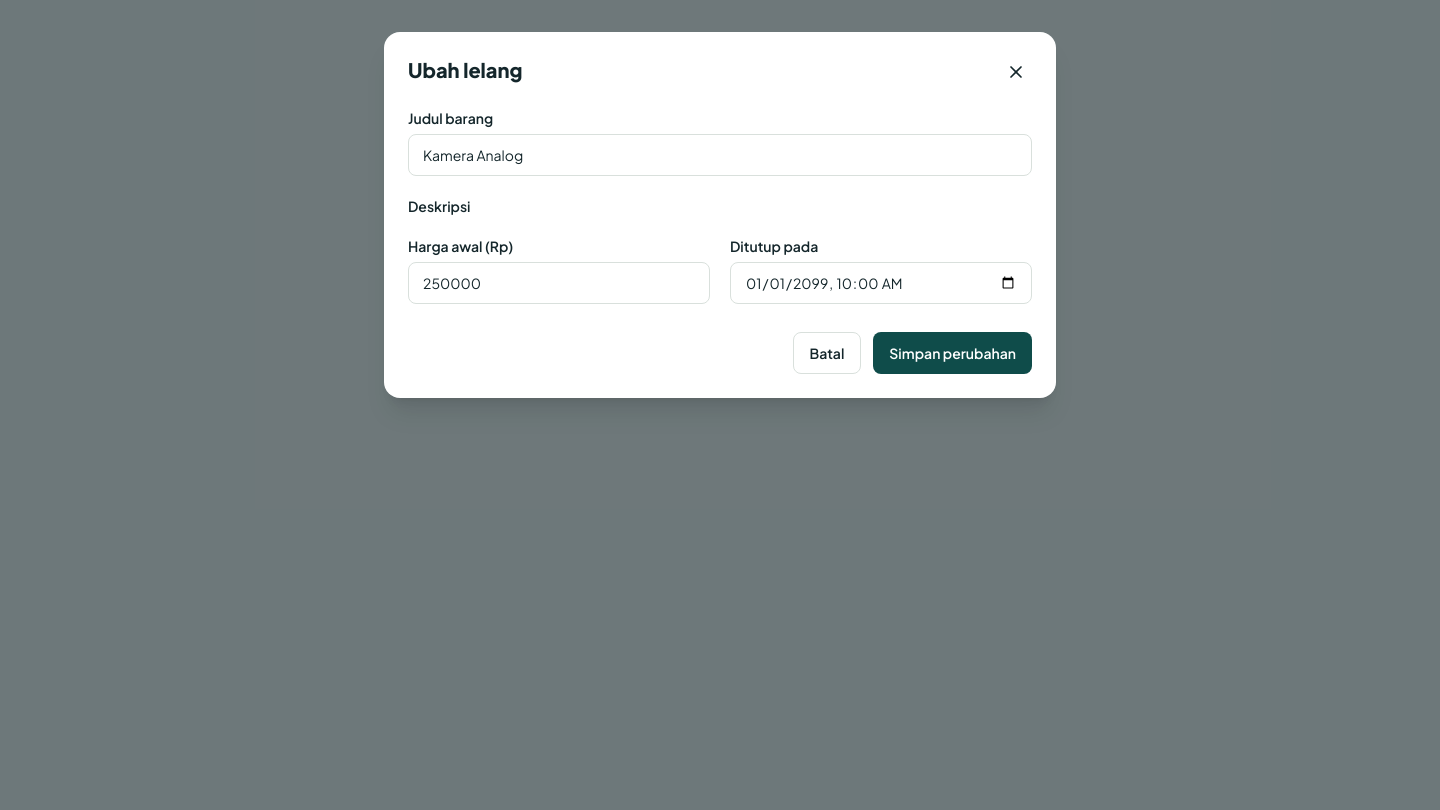
Test: ChangeModal › menampilkan pesan validasi saat data dikosongkan
The image size is (1440, 810).
Clear the field labelled "Judul barang" at (720, 155), box 408,134 -> 1032,176
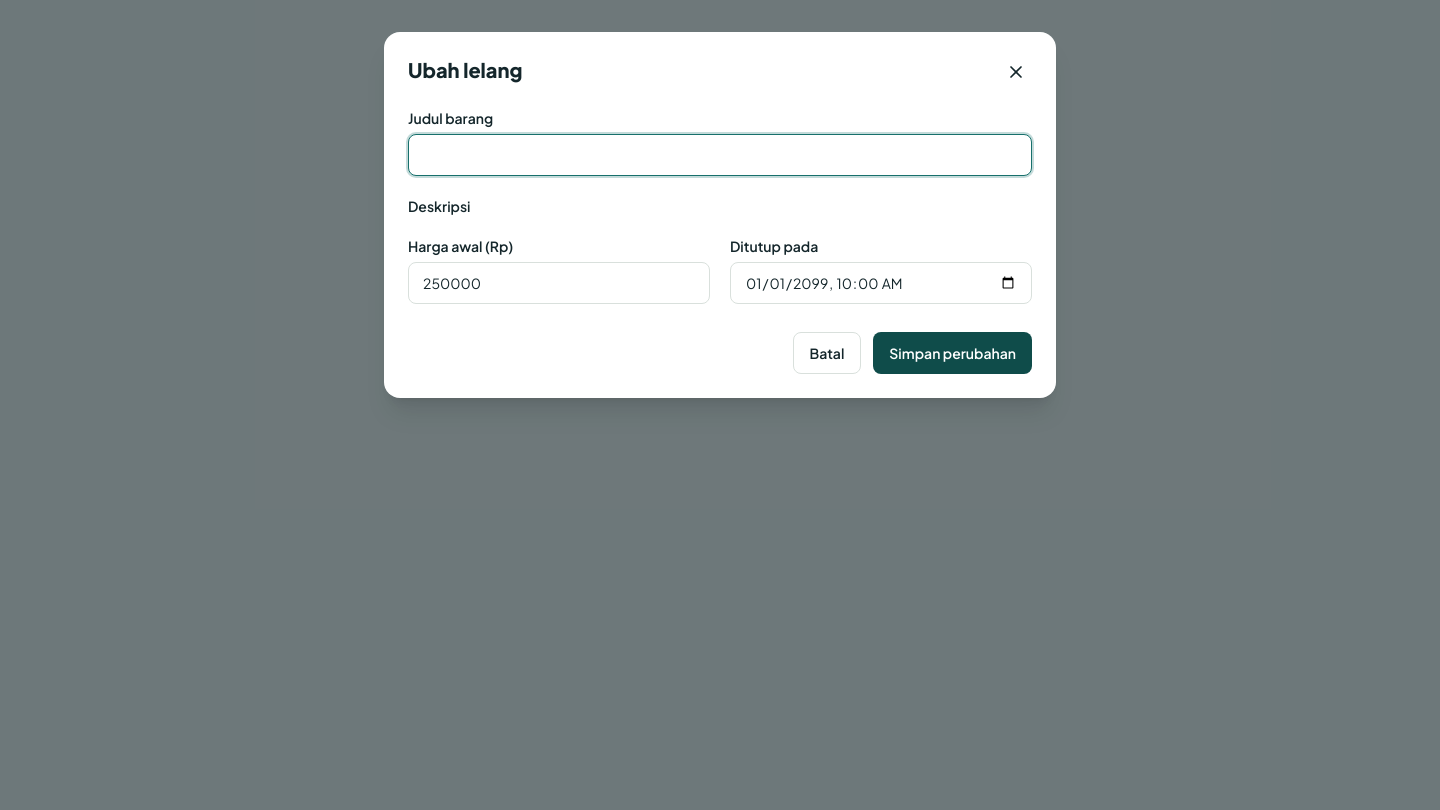
Clear the number field labelled "Harga awal (Rp)" at (559, 283), box 408,262 -> 710,304
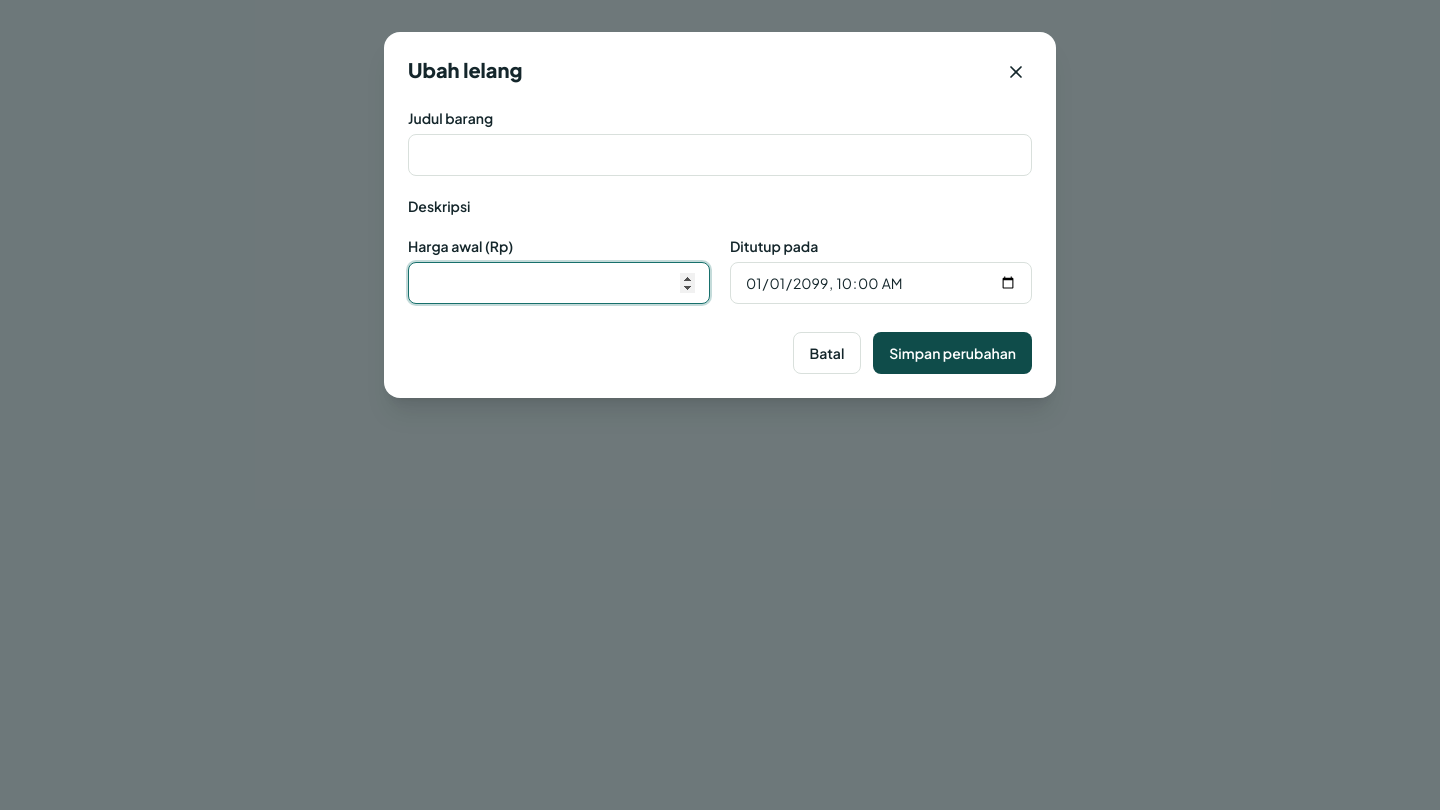
Click the button "Simpan perubahan" at (953, 353), box 873,332 -> 1032,374
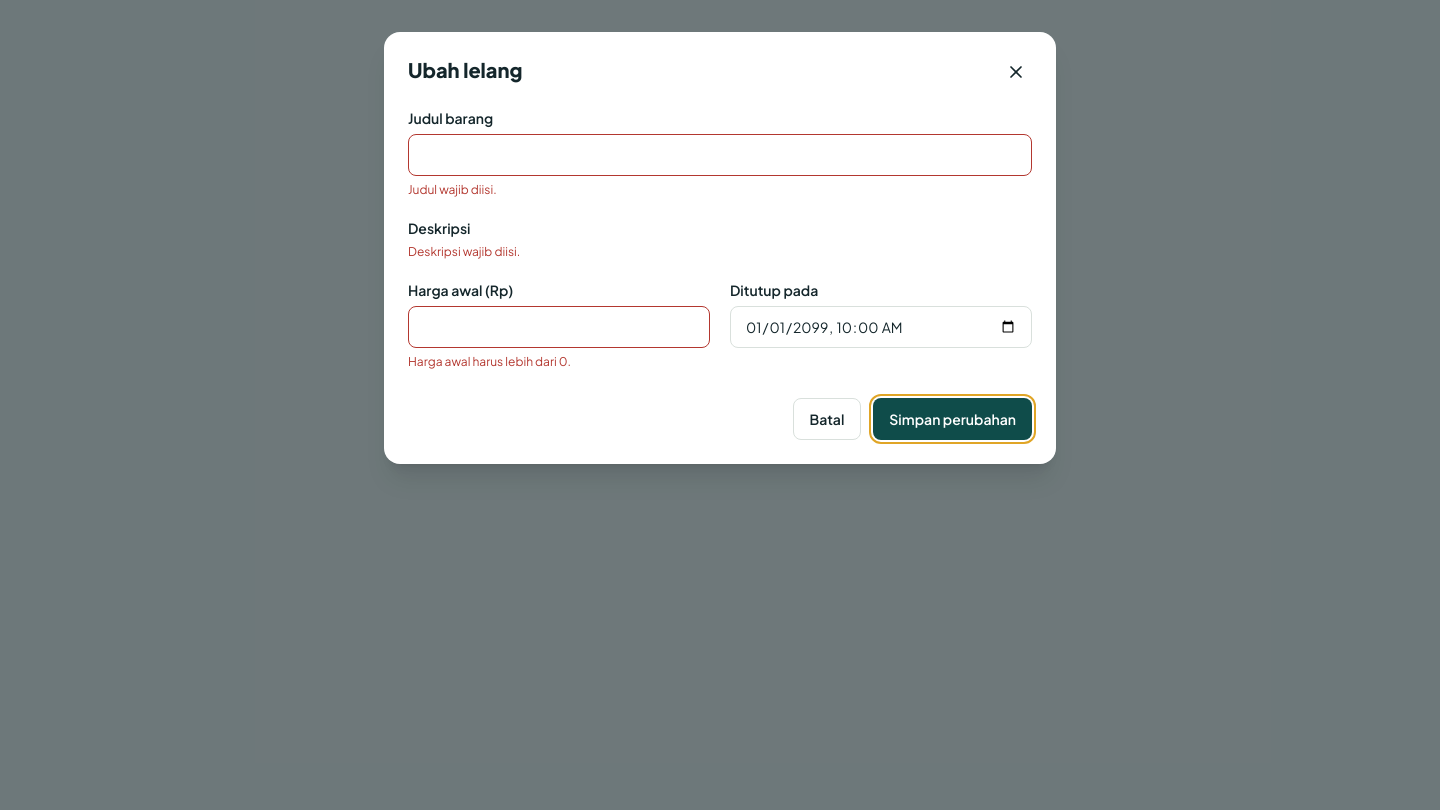
Now the text "Judul wajib diisi." is shown, box 408,182 -> 497,197
Now the text "Deskripsi wajib diisi." is shown, box 408,244 -> 520,259
Now the text "Harga awal harus lebih dari 0." is shown, box 408,354 -> 571,369
